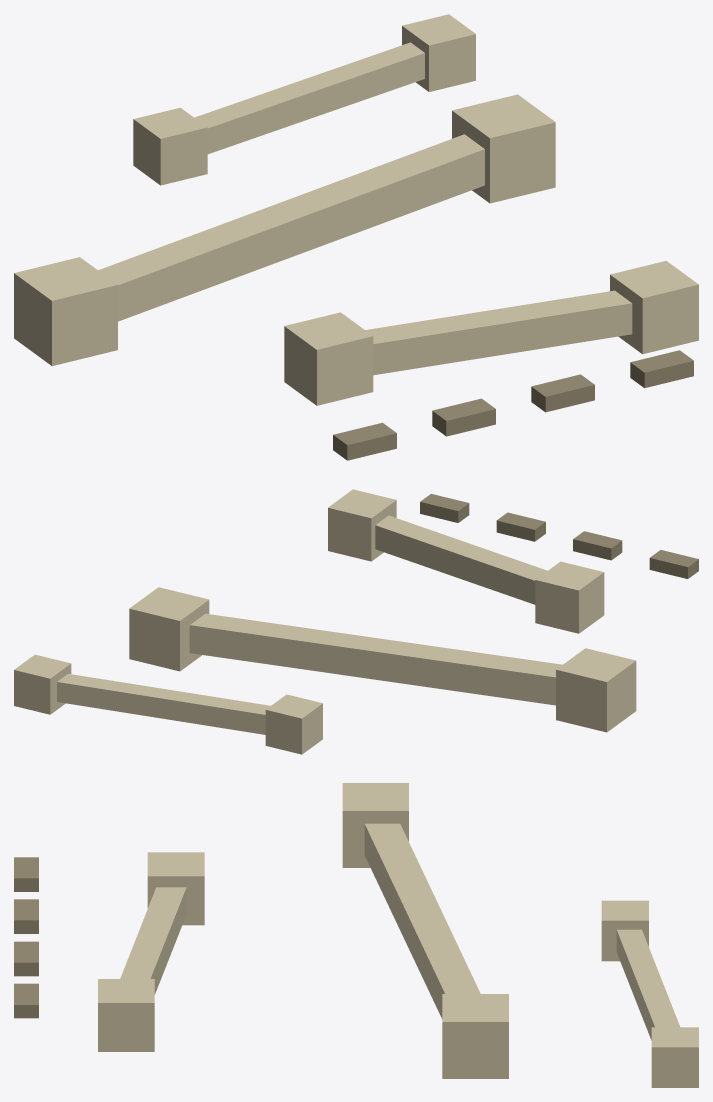
File: bones_scatter_b.fbx
3 views of the same model, one above another, from view 1: azimuth 30°, elevation 25°; view 2: azimuth 150°, elevation 25°; view 3: azimuth 270°, elevation 25° (orthographic). The views are drawn at different scales.
Parts seen in each view (by area): view 1: bones_scatter_b; view 2: bones_scatter_b; view 3: bones_scatter_b.
Part boxes in pixels (left/top/right/bottom): bones_scatter_b: left=14, top=14, right=698, bottom=460; bones_scatter_b: left=14, top=489, right=698, bottom=754; bones_scatter_b: left=14, top=783, right=698, bottom=1087.
Size of the model in its own units: 1.21 by 0.126 by 1.37.
